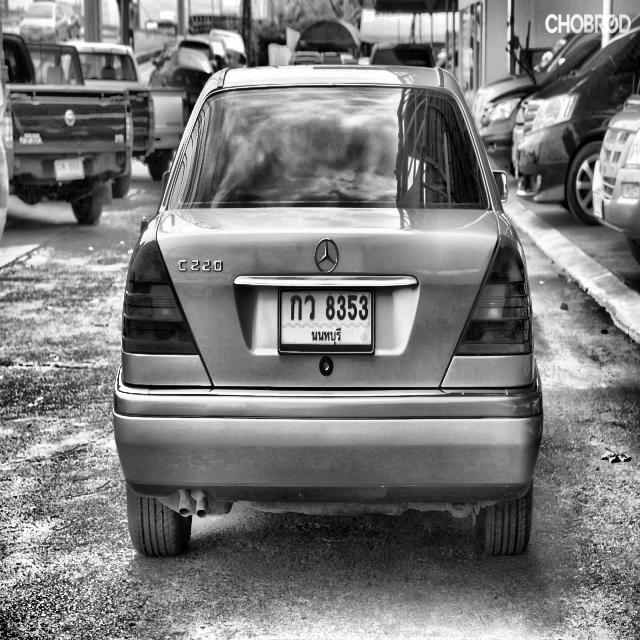license-plate: (273, 282, 383, 363)
